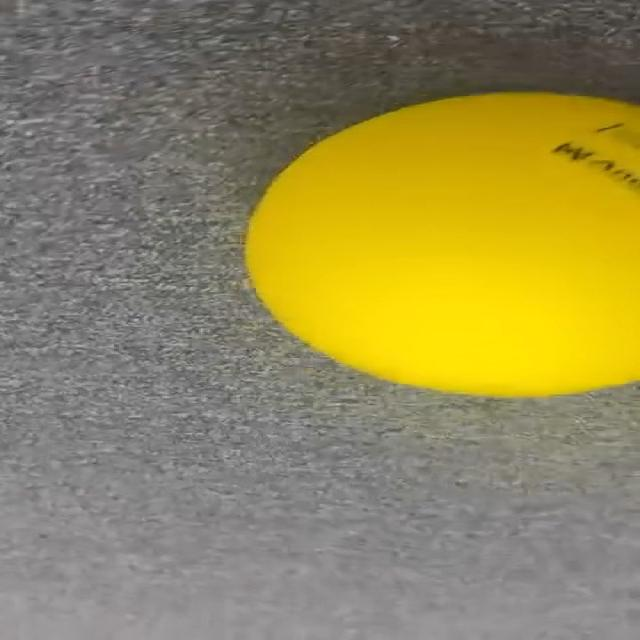Fuels: (242, 89, 640, 396)
